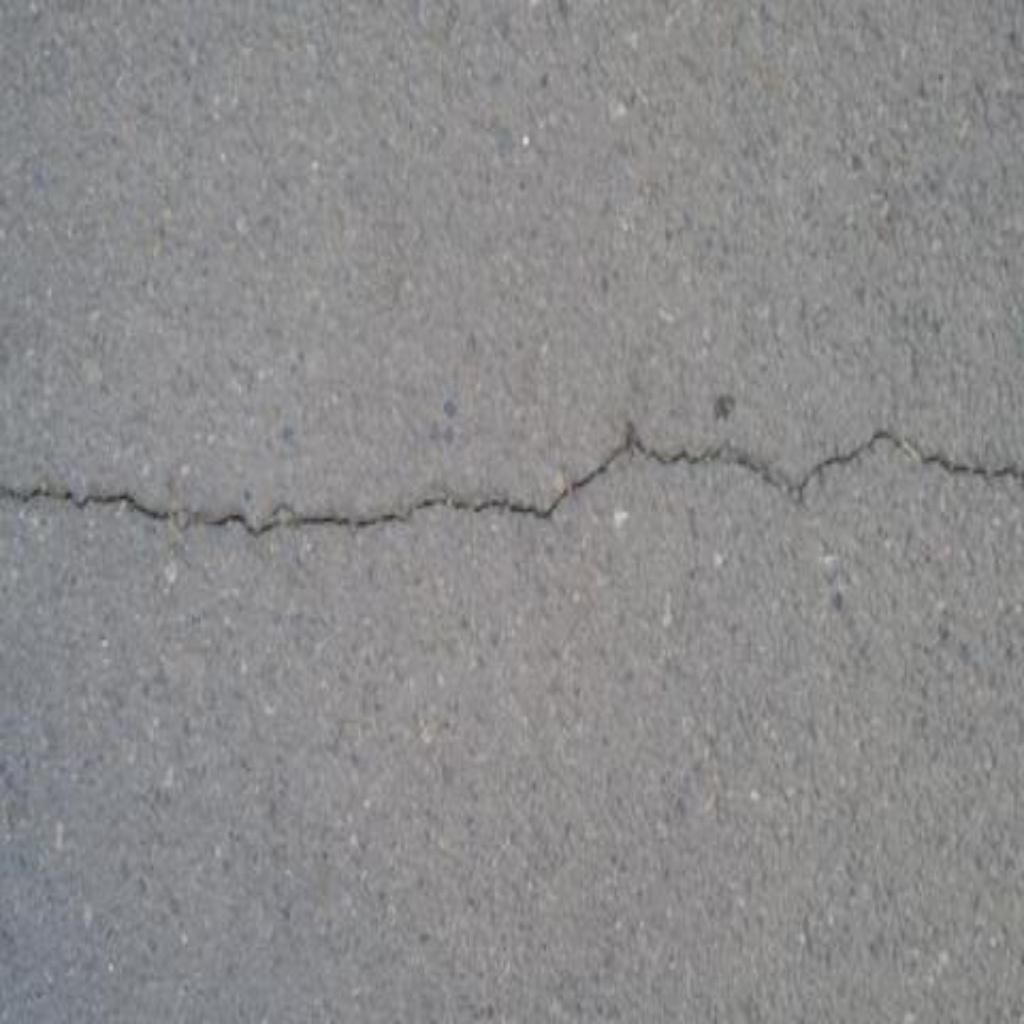Crack: (1, 417, 1024, 538)
